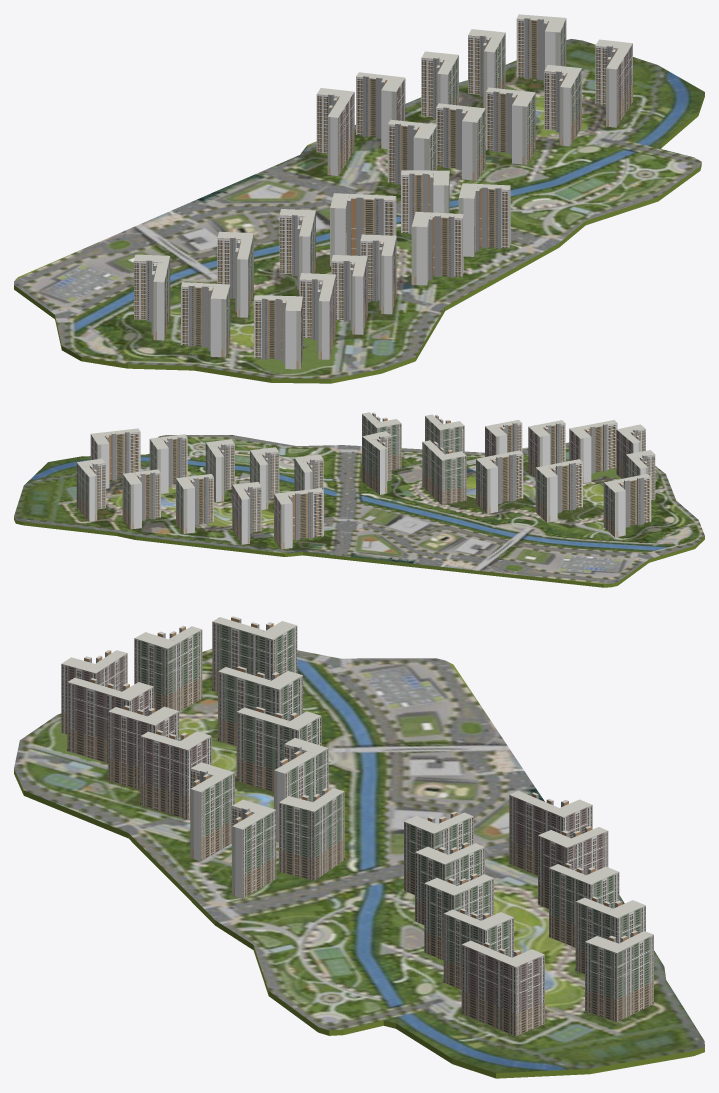
Rendered from ICJ00106_A.glb.
The picture shows the model from 3 angles, top to bottom: view 1: azimuth 30°, elevation 25°; view 2: azimuth 150°, elevation 25°; view 3: azimuth 270°, elevation 25°; orthographic projection. The views are drawn at different scales.
Visible parts, largest first — view 1: MainBuilding; view 2: MainBuilding; view 3: MainBuilding.
Boxes of the visible parts, x1,y1,x2,y2 form: MainBuilding: (14, 14, 704, 383); MainBuilding: (14, 412, 704, 587); MainBuilding: (14, 616, 704, 1078).
Bounding box in the file's own units: 30743 × 2585 × 20874.
Materials: 1 (1 with a texture image).
